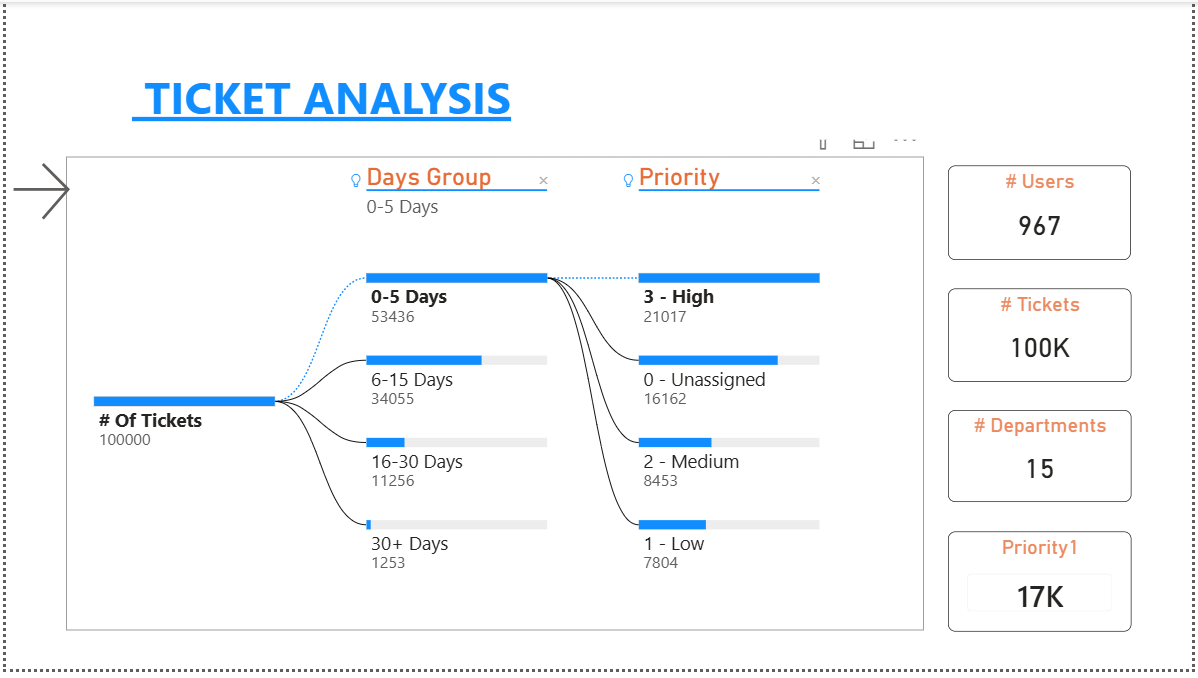

Layout of this report page (visuals, bound fields, positions):
{"tool":"powerbi","page":{"name":"overview","canvas":[1280,720],"ordinal":0},"visuals":[{"type":"card","title":"# Tickets","fields":{"Values":["Tickets.# Of Tickets"]},"box":[1016.9,309.3,198.2,101],"z":0},{"type":"card","title":"# Users","fields":{"Values":["Tickets.# Of Users"]},"box":[1016.9,176.5,197.5,102],"z":1000},{"type":"card","title":"# Departments","fields":{"Values":["Tickets.# of Departments"]},"box":[1016.9,441,198.2,99.1],"z":2000},{"type":"decompositionTreeVisual","fields":{"Analyze":["Tickets.# Of Tickets"],"ExplainBy":["Tickets.Days Group","Tickets.Priority"]},"box":[64.8,166.8,926.2,511.7],"z":3000},{"type":"cardVisual","title":"Priority1","fields":{"Data":["Tickets.Priority1_Tickets"]},"box":[1016.9,570.9,198.2,108.3],"z":4000},{"type":"textbox","box":[64.2,0,927,148.7],"z":5000},{"type":"actionButton","box":[0,167,99.1,75.3],"z":6000}]}

Visuals, with their boxes in screenshot pixels (x1, y1, x2, y2), scaled from the page's 1280x720 canvas onto the 1198x678 screenshot:
"# Tickets" card: 952,291,1137,386
"# Users" card: 952,166,1137,262
"# Departments" card: 952,415,1137,509
decompositionTreeVisual - Tickets.# Of Tickets x Tickets.Days Group: 61,157,928,639
"Priority1" cardVisual: 952,538,1137,640
textbox: 60,0,928,140
actionButton: 0,157,93,228
